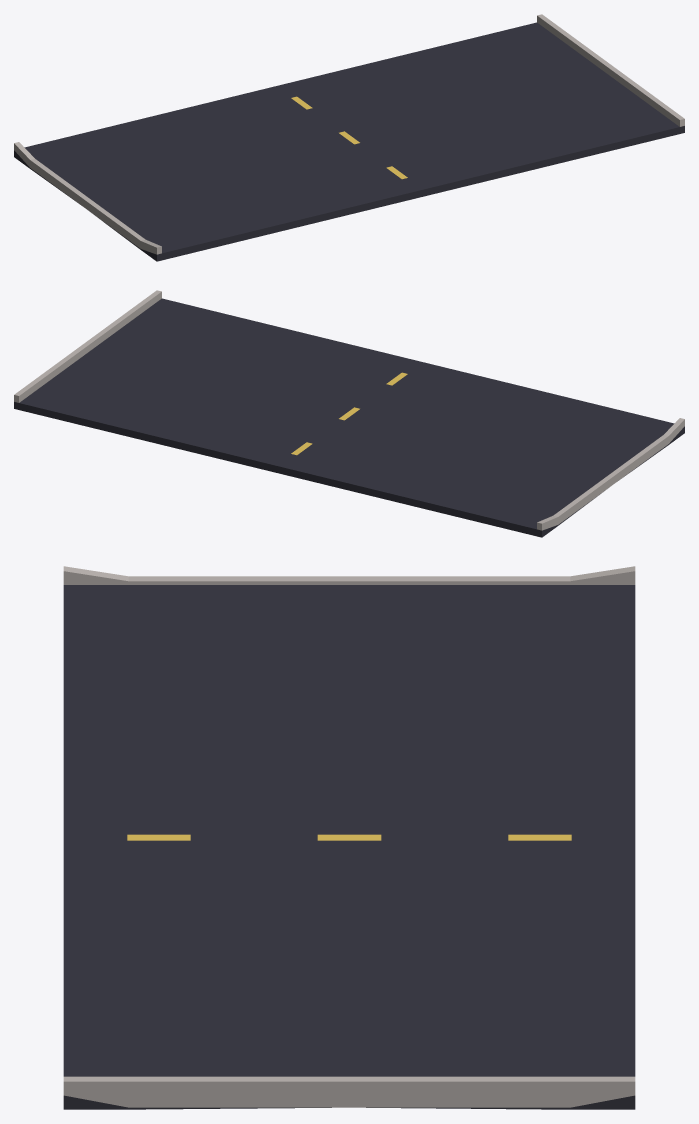
File: driveway_road_single.fbx
3 views of the same model, one above another, from view 1: azimuth 30°, elevation 25°; view 2: azimuth 150°, elevation 25°; view 3: azimuth 270°, elevation 25° (orthographic). The views are drawn at different scales.
Visible parts, largest first — view 1: road.003, road.006, road.005; view 2: road.003, road.006, road.005; view 3: road.003, road.006, road.005, road.008, road.009.
Boxes of the visible parts, x1,y1,x2,y2 form: road.003: (24,22,679,260); road.006: (537,14,684,133); road.005: (30,159,145,249); road.003: (19,298,674,536); road.006: (14,290,161,409); road.005: (553,435,668,525); road.003: (63,585,635,1076); road.006: (63,1076,635,1109); road.005: (128,576,570,584); road.008: (63,566,128,584); road.009: (570,566,635,584).
Bounding box in the file's own units: 1562 × 39.74 × 732.
